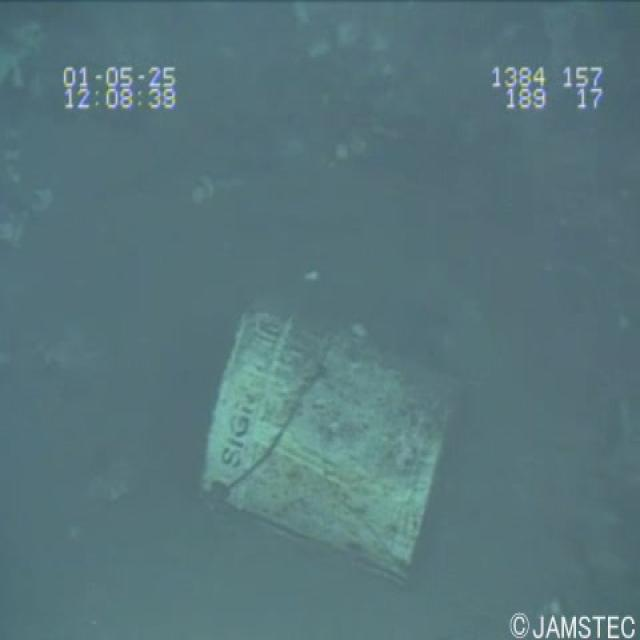plastic: (185, 283, 475, 590)
